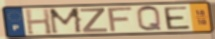E: (162, 6, 193, 31)
F: (106, 5, 135, 33)
H: (23, 8, 54, 36)
M: (48, 7, 85, 35)
Q: (135, 5, 164, 33)
Z: (79, 7, 110, 33)
